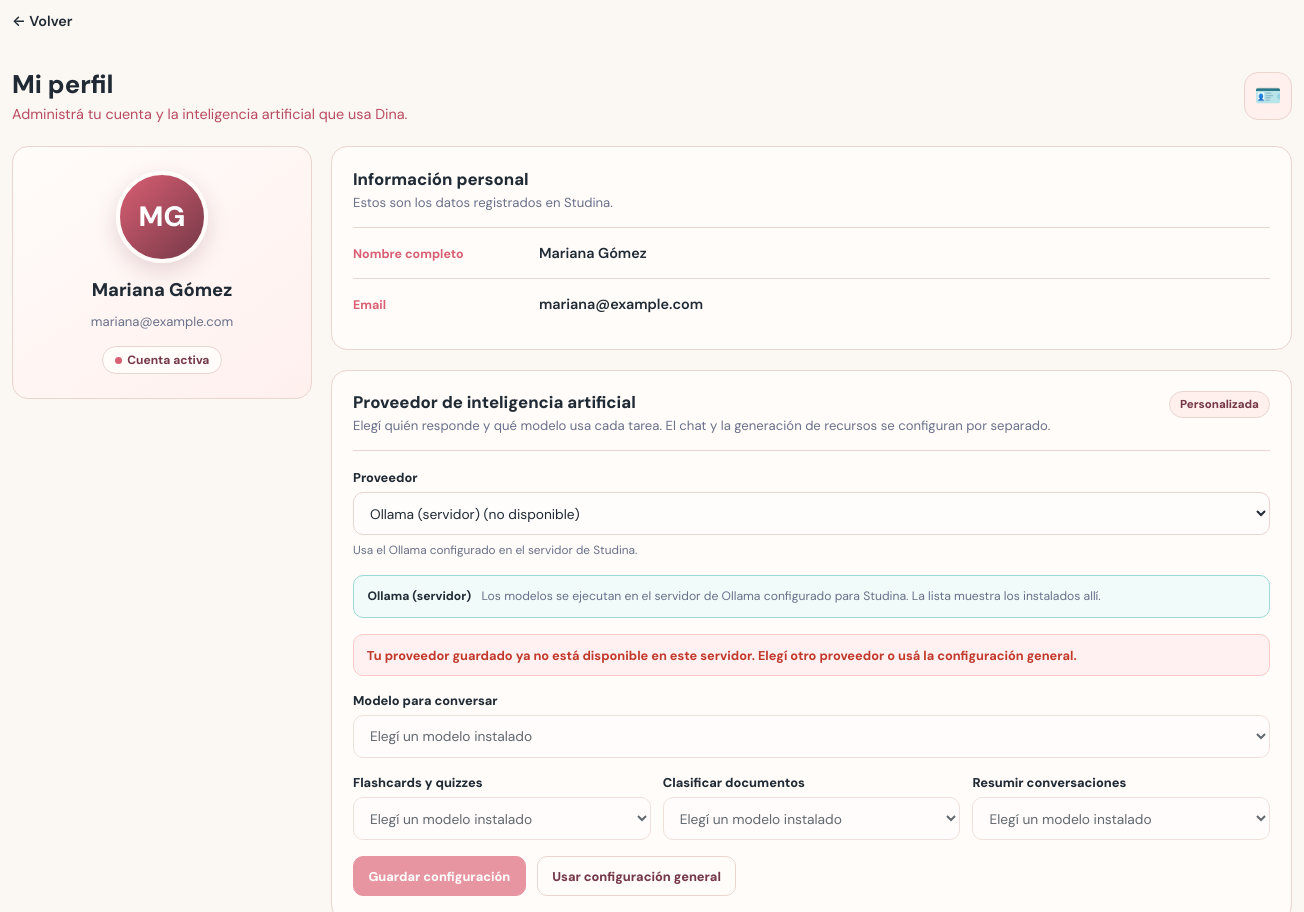
ProfilePage AI settings › permite restablecer una preferencia Ollama previa sin consultar un servidor ausente
The width and height of the screenshot is (1304, 912).
Check: the message shows "ya no está disponible", box [367,646,1077,664]
Check: the button "Guardar configuración" is disabled, box [353,856,526,896]
Click the button "Usar configuración general". click: point(637, 876)
box: [537,856,736,896]
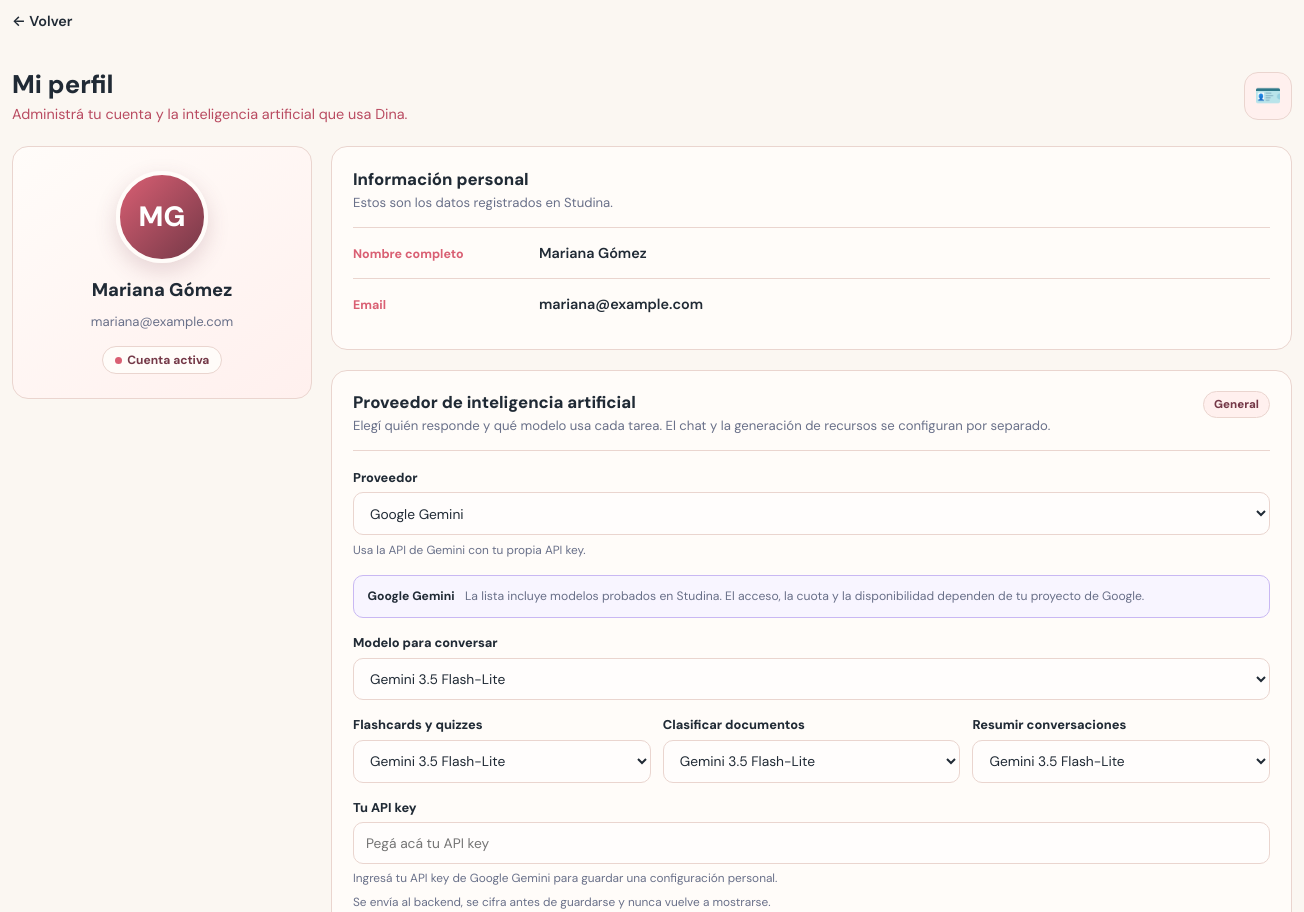
Check: the dropdown labelled "Proveedor" shows "Google Gemini", box [353,492,1270,535]
Check: the message is gone
